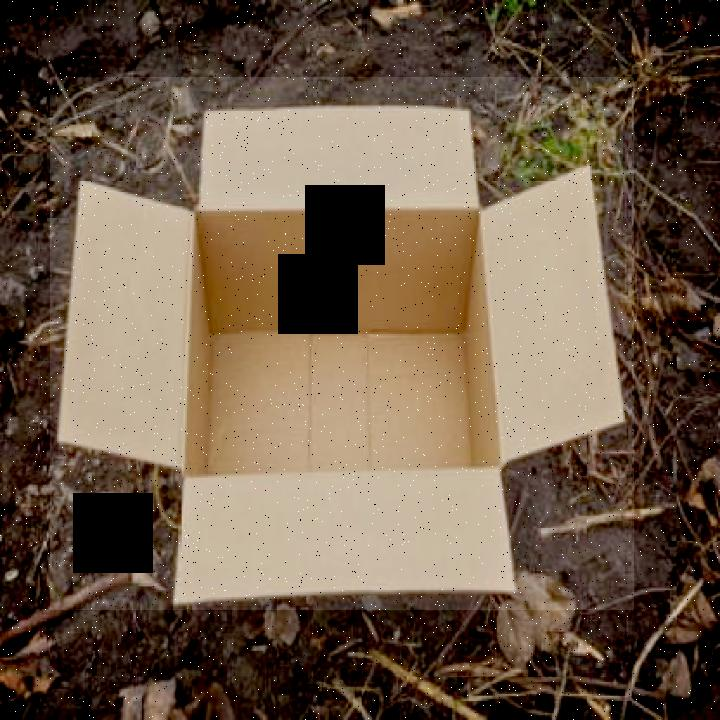box: (50, 77, 634, 610)
